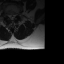CCS_normal: (11, 12, 13, 21)
LFS_stenosis: (15, 11, 17, 17)
LLS_normal: (13, 12, 15, 21)
RFS_normal: (7, 12, 9, 18)
RLS_normal: (9, 12, 11, 20)
